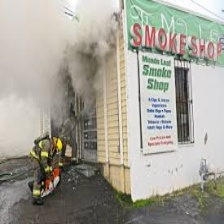smoke: (1, 1, 92, 142)
